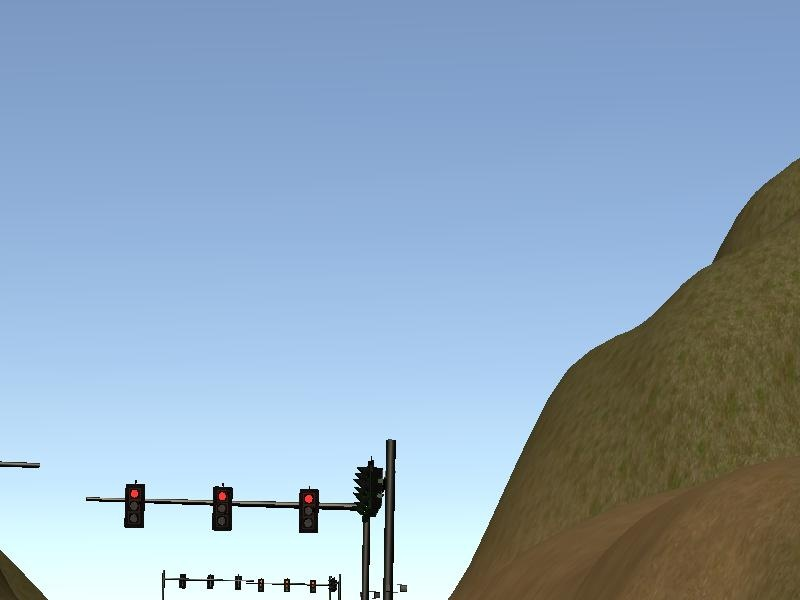red: (124, 482, 148, 529), (297, 488, 320, 533), (213, 486, 232, 531)
